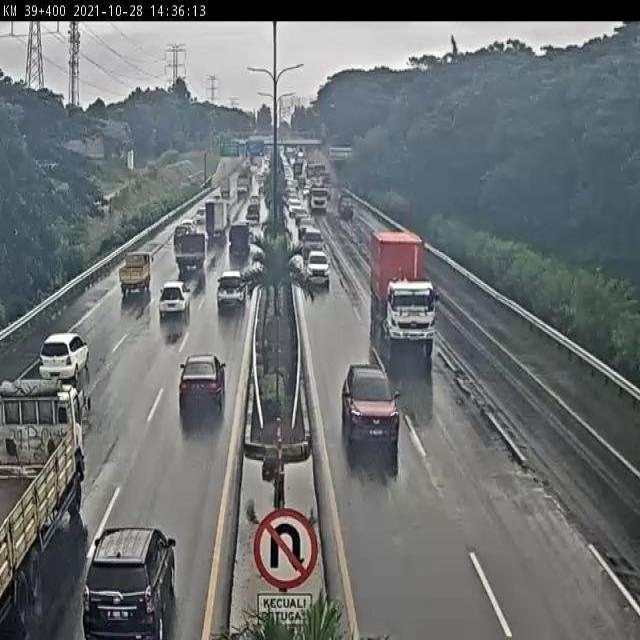Car: (82, 525, 177, 640), (341, 361, 401, 454), (178, 353, 227, 411), (38, 332, 89, 382), (158, 280, 191, 321), (216, 268, 248, 308), (305, 251, 331, 283), (297, 218, 317, 236), (287, 199, 303, 218), (181, 216, 196, 232), (293, 208, 308, 224), (248, 195, 262, 210), (194, 207, 206, 223)
Truck: (0, 378, 92, 640), (370, 228, 440, 356), (118, 250, 154, 296), (176, 228, 207, 274), (205, 200, 229, 240), (307, 181, 331, 212), (221, 178, 231, 198), (292, 162, 302, 179)
Van: (228, 223, 253, 258)
